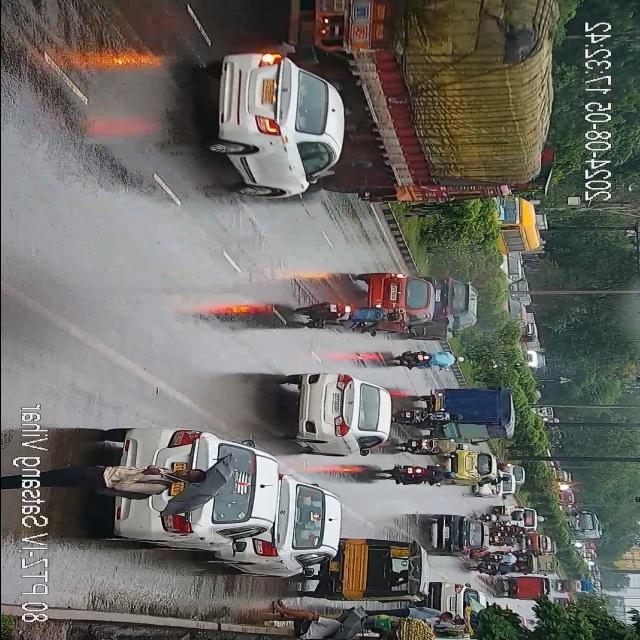2-wheelers: (297, 296, 396, 332), (382, 462, 451, 488), (393, 344, 461, 370), (399, 432, 460, 456), (397, 403, 453, 429), (481, 511, 519, 524), (482, 552, 522, 564), (471, 562, 517, 572), (488, 535, 522, 547)
auto: (328, 534, 428, 600), (421, 382, 512, 435), (502, 571, 546, 597)
bus: (479, 197, 542, 250), (566, 511, 602, 537)
car: (102, 428, 270, 562), (205, 47, 335, 191), (250, 475, 338, 574), (296, 370, 387, 458), (361, 265, 436, 337), (430, 580, 482, 632), (430, 272, 472, 332), (430, 510, 478, 558), (447, 452, 493, 482), (497, 504, 538, 532), (474, 472, 512, 498), (523, 532, 551, 554), (556, 577, 589, 595), (522, 348, 546, 368), (551, 470, 569, 485)
pedestrian: (52, 459, 202, 498), (274, 600, 346, 640), (382, 603, 452, 625)
truck: (308, 0, 558, 196)
